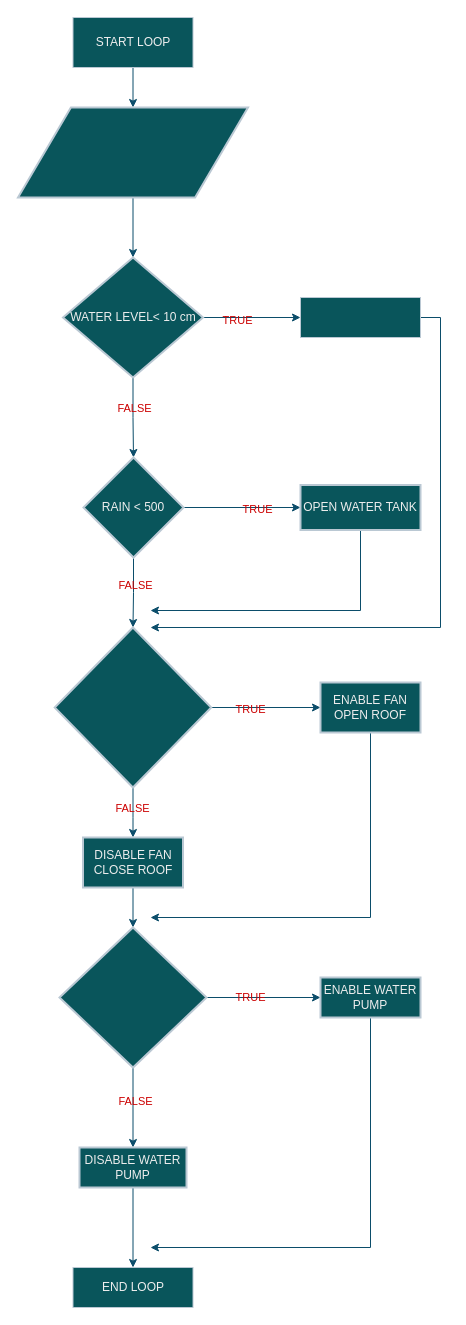
Some shapes in this 466 by 1325 pixel diagram are drawn without their labels. The box of each missing label's shape, as (x1, y1, x2, y2) in pixels:
CLOSE WATER TANK: (300, 296, 420, 338)
READ SENSOR VALUES Rain, Soil, Air moisture, Temperature, Water level: (16, 106, 248, 198)
SOIL MOISTURE> 500: (58, 926, 207, 1068)
TEMPERATURE< 35 OR HUMIDITY > 80: (53, 626, 212, 788)
